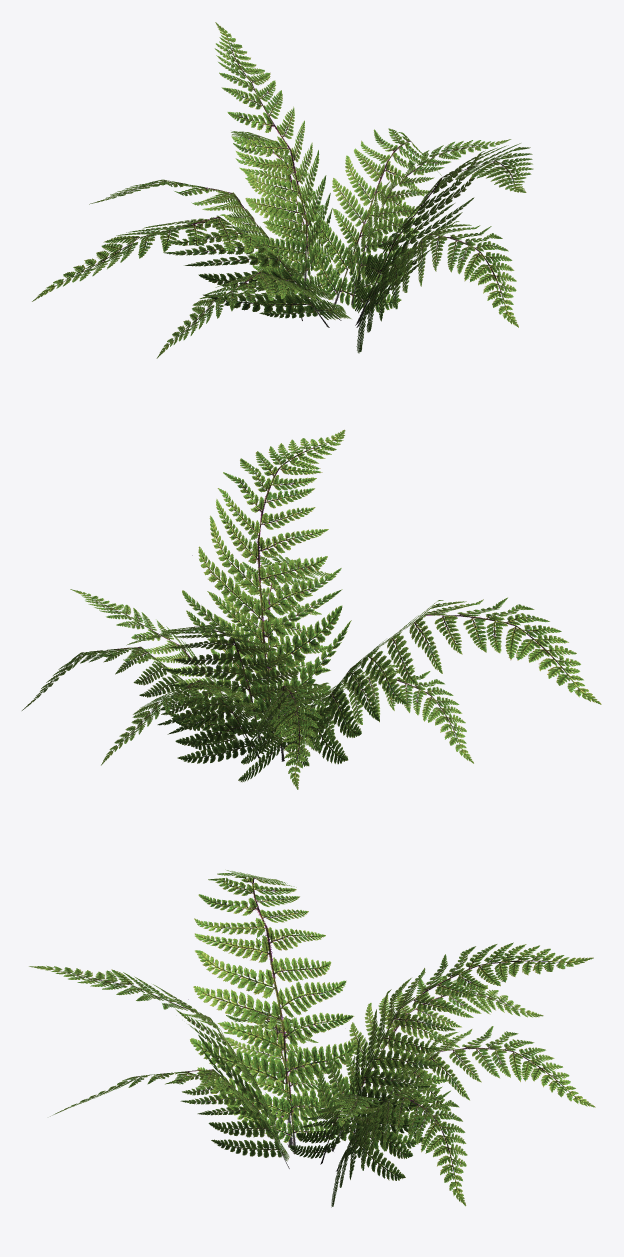
The model's file is fern_frono.FBX.
3 views of the same model, one above another, from view 1: azimuth 30°, elevation 25°; view 2: azimuth 150°, elevation 25°; view 3: azimuth 270°, elevation 25° (orthographic). The views are drawn at different scales.
Parts seen in each view (by area): view 1: fern_frono; view 2: fern_frono; view 3: fern_frono.
Part boxes in pixels (x1=…): fern_frono: x1=32, y1=22, x2=533, y2=358; fern_frono: x1=22, y1=429, x2=601, y2=789; fern_frono: x1=29, y1=870, x2=595, y2=1207.
Bounding box in the file's own units: 295 × 145 × 270.
